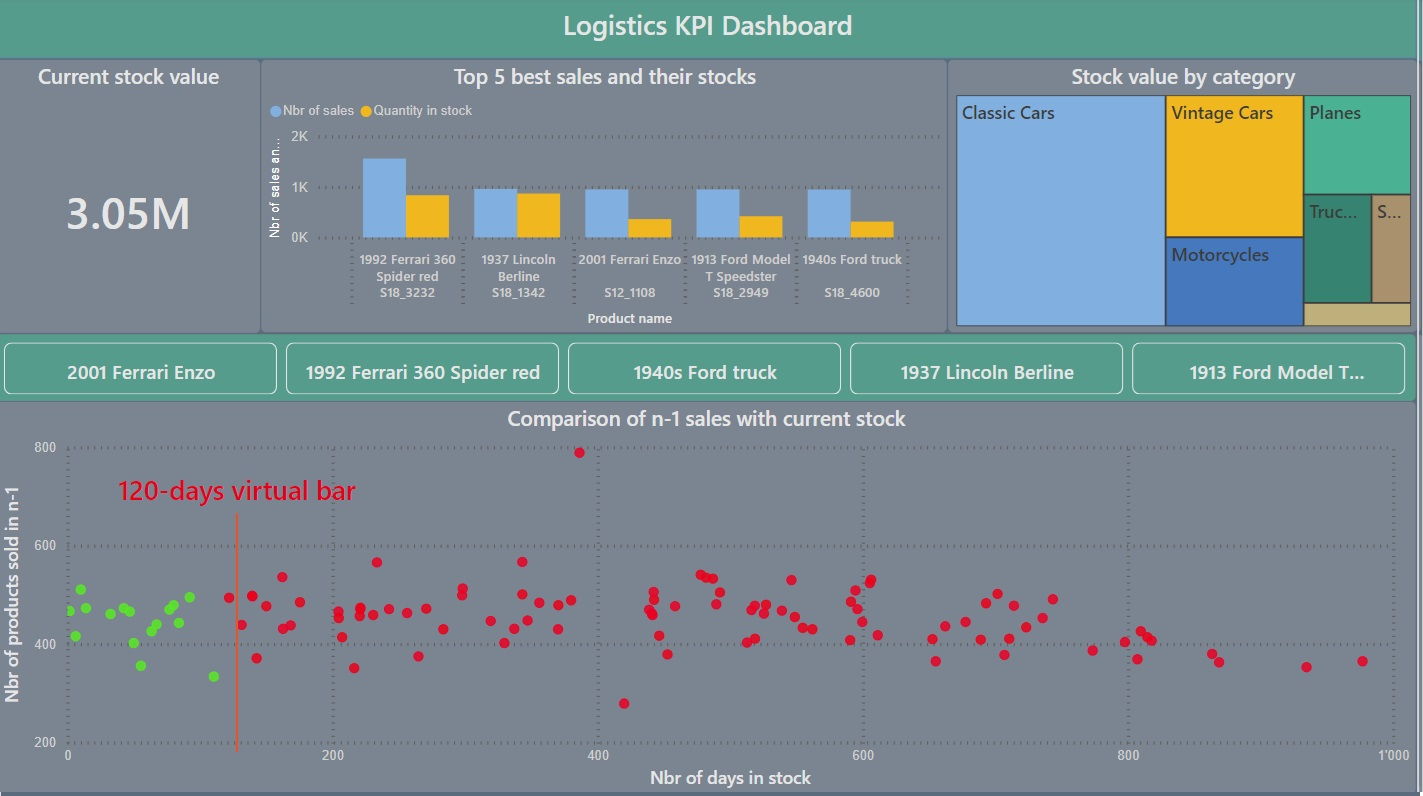

The page's visual inventory and layout, read from the dashboard file:
{"tool":"powerbi","page":{"name":"LOGISTICS","canvas":[1280,720],"ordinal":3},"visuals":[{"type":"scatterChart","title":"Comparison of n-1 sales with current stock","fields":{"Category":["Requête6.productCode"],"X":["Sum(Requête6.days_of_stock)"],"Y":["Sum(Requête6.units_sold)"]},"box":[0,364.8,1280,354.8],"z":0,"group":"g1"},{"type":"shape","box":[0,0,1280,56.2],"z":0},{"type":"clusteredColumnChart","title":"Top 5 best sales and their stocks","fields":{"Category":["Requête3.productCode","Requête3.productName"],"Y":["Sum(Requête1.totalSale)","Sum(Requête1.quantityInStock)"]},"box":[238.9,56.7,618.9,246.7],"z":1000},{"type":"shape","title":"120-days virtual bar","box":[60.2,427.9,314.2,252.8],"z":1000,"group":"g1"},{"type":"advancedSlicerVisual","fields":{"Values":["Requête1.productName"]},"box":[0,303.8,1280,61.2],"z":2000},{"type":"kpi","title":"Current stock value","fields":{"TrendLine":["Requête4.orderYear"],"Indicator":["Sum(Requête3.stockValue)"]},"box":[0,56.4,239.1,247.1],"z":3000},{"type":"group","id":"g1","title":"Groupe 1","box":[0,364.8,1280,354.8],"z":4000},{"type":"textbox","title":"Logistics KPI Dashboard ","box":[501.2,10,281.2,33.8],"z":5000},{"type":"treemap","title":"Stock value by category","fields":{"Group":["Requête1.productLine"],"Values":["Sum(Requête1.totalStockValue)"]},"box":[857.8,56.7,423.3,246.7],"z":6000}]}

Visuals, with their boxes in screenshot pixels (x1, y1, x2, y2), scaled from the page's 1280x720 canvas onto the 1423x796 screenshot:
"Comparison of n-1 sales with current stock" scatterChart: [0, 403, 1422, 795]
shape: [0, 0, 1422, 62]
"Top 5 best sales and their stocks" clusteredColumnChart: [266, 63, 954, 335]
"120-days virtual bar" shape: [67, 473, 416, 753]
advancedSlicerVisual - Requête1.productName: [0, 336, 1422, 404]
"Current stock value" kpi: [0, 62, 266, 336]
"Groupe 1" group: [0, 403, 1422, 795]
"Logistics KPI Dashboard " textbox: [557, 11, 870, 48]
"Stock value by category" treemap: [954, 63, 1422, 335]
